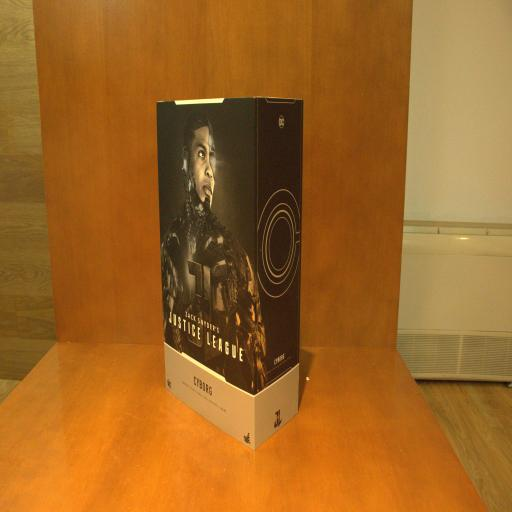Cyborg: (158, 96, 304, 454)
